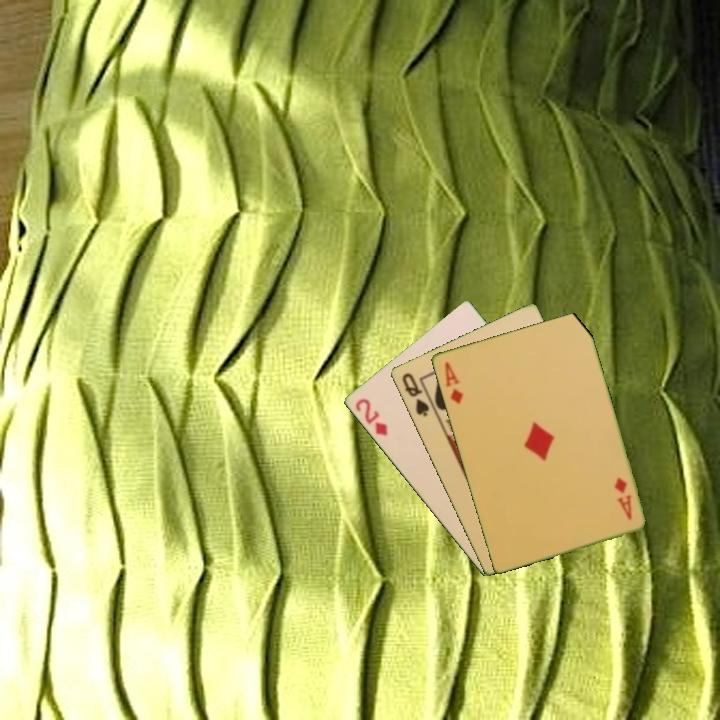2d: (351, 395, 390, 439)
Ad: (441, 358, 466, 407), (610, 473, 634, 522)
Qs: (398, 369, 432, 420)
